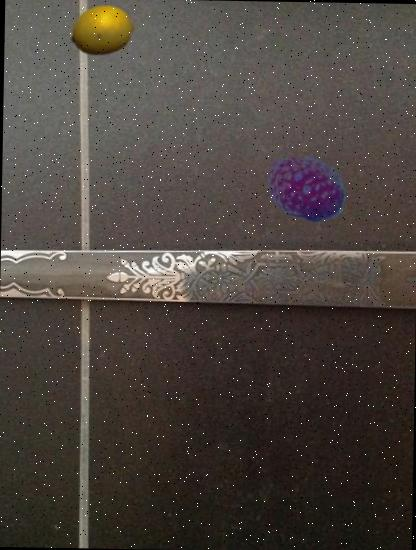Lemon: (68, 0, 134, 63)
Raspberry: (264, 146, 348, 230)
